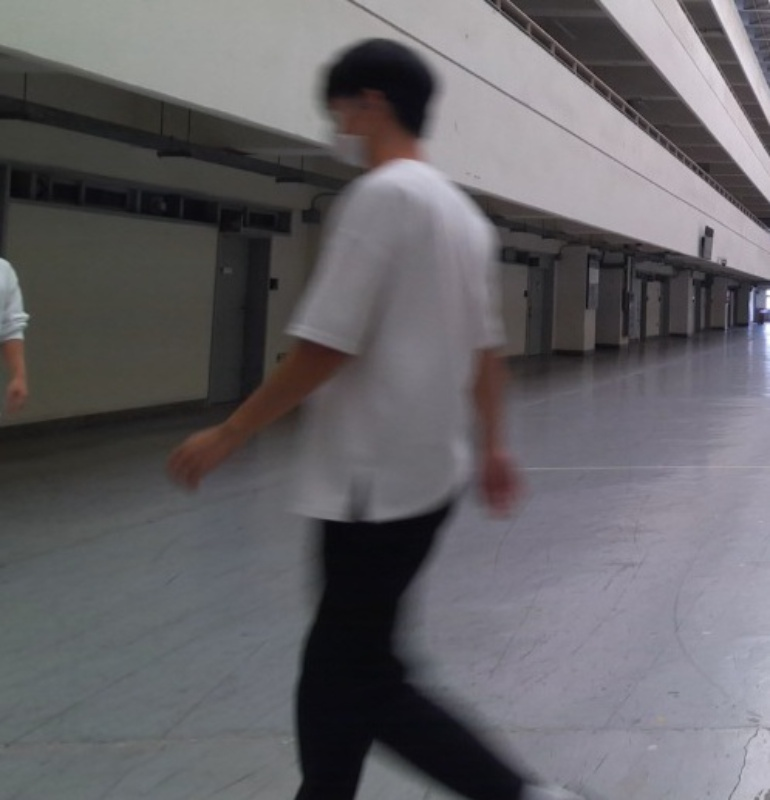person: (168, 37, 546, 800)
